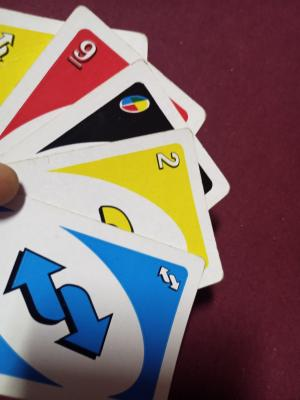blue: (5, 226, 160, 383)
num_2: (149, 148, 185, 175)
num_9: (64, 37, 103, 74)
red: (26, 60, 90, 116)
reverse: (156, 264, 183, 294)
wild: (115, 93, 155, 120)
yellow: (47, 166, 193, 223)
